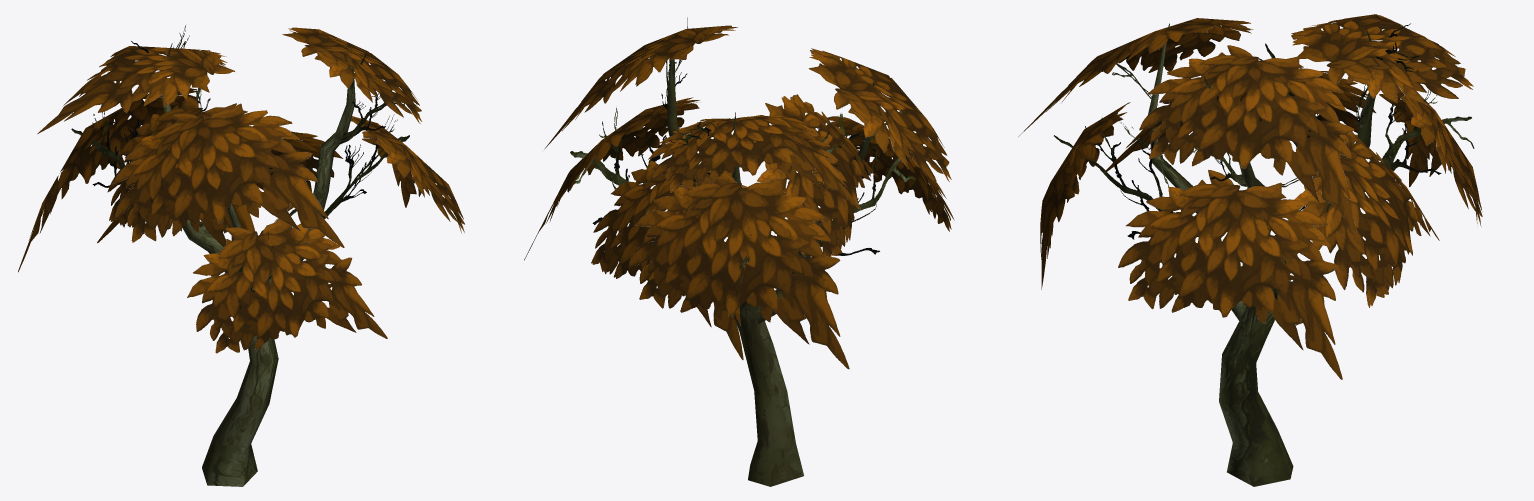
The model's file is mesh_qingming_tree01.FBX.
The picture shows the model from 3 angles, left to right: view 1: azimuth 30°, elevation 25°; view 2: azimuth 150°, elevation 25°; view 3: azimuth 270°, elevation 25°; orthographic projection. The views are drawn at different scales.
Parts seen in each view (by area): view 1: mesh_qingming_tree01; view 2: mesh_qingming_tree01; view 3: mesh_qingming_tree01.
Boxes of the visible parts, <box> form: mesh_qingming_tree01: <box>18,25,464,486</box>; mesh_qingming_tree01: <box>524,17,954,486</box>; mesh_qingming_tree01: <box>1018,14,1482,486</box>.
Bounding box in the file's own units: 13.04 × 14.04 × 13.89.
